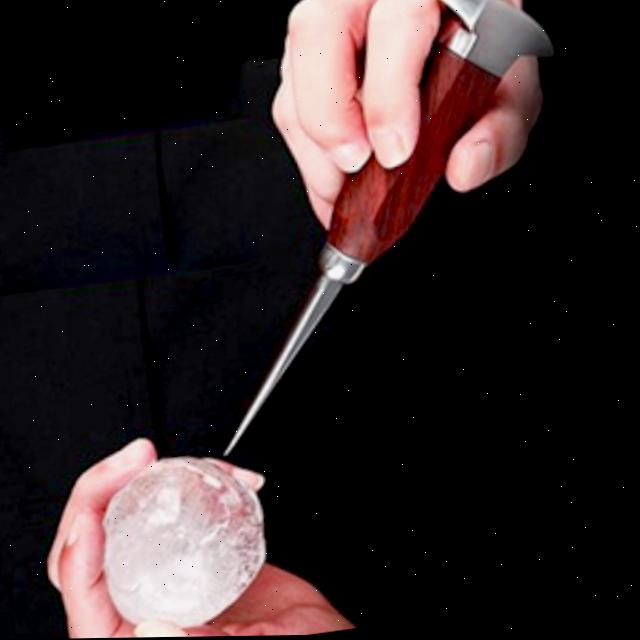ice pick: (174, 0, 599, 457)
